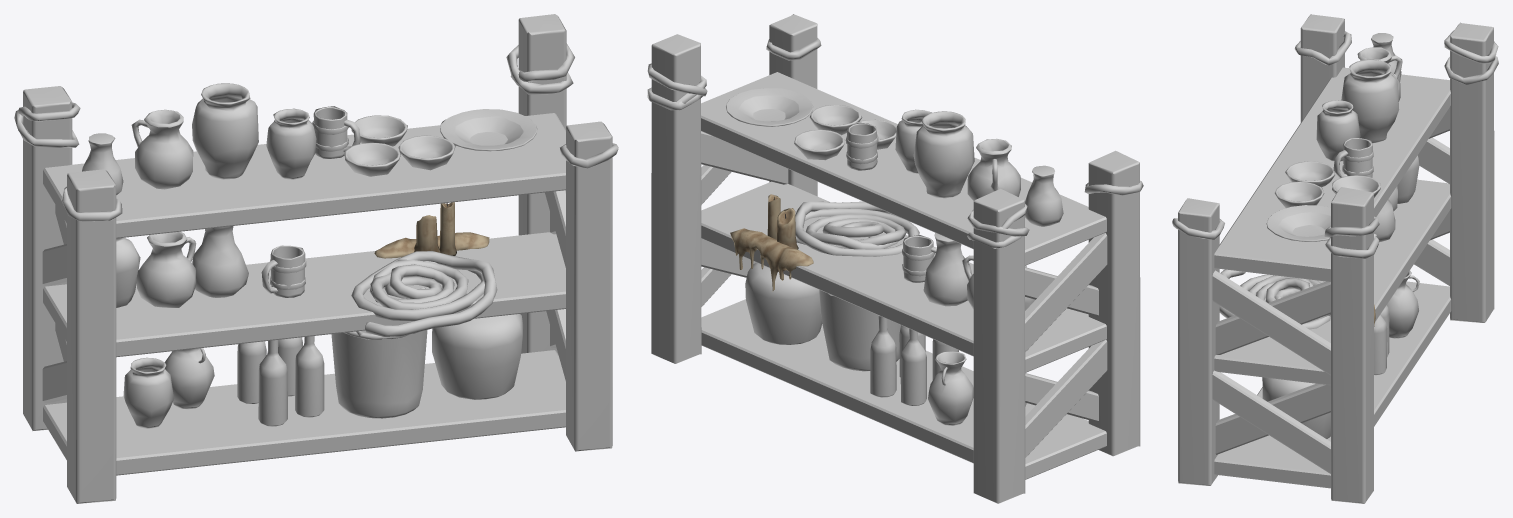
Rendered from SM_Shelf.fbx.
3 renders of one model, left to right at view 1: azimuth 30°, elevation 25°; view 2: azimuth 150°, elevation 25°; view 3: azimuth 270°, elevation 25°, orthographic. The views are drawn at different scales.
Visible parts, largest first — view 1: SM_Shelf_LOD0; view 2: SM_Shelf_LOD0; view 3: SM_Shelf_LOD0.
Part boxes in pixels (box(x1,y1,x2,y2)): SM_Shelf_LOD0: box(14, 14, 618, 503); SM_Shelf_LOD0: box(647, 14, 1143, 503); SM_Shelf_LOD0: box(1172, 14, 1498, 503).
Bounding box in the file's own units: 239 × 149 × 151.
Materials: 4 (1 with a texture image).
